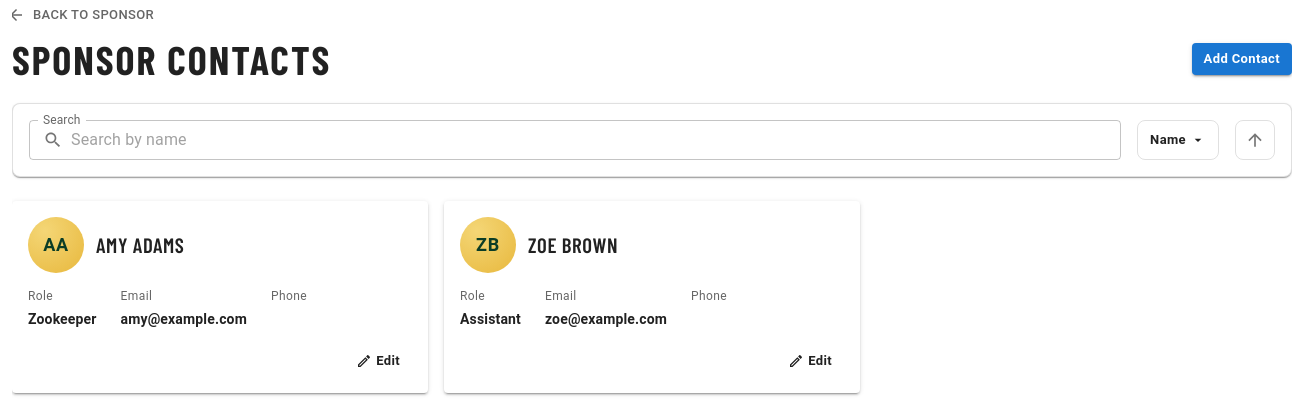
Test case: SponsorContactList › switching the sort field to Role re-sorts by role, and the current direction carries over across the switch
The width and height of the screenshot is (1304, 413).
Check: the link "Amy Adams" is shown, box x1=96 y1=233 x2=184 y2=257
Check: the button with aria-label "Sort field: Name" is shown, box x1=1137 y1=120 x2=1219 y2=160
Note: Flip direction to descending while still sorting by Name.
Click the button named "Name, Z to A".
click(1255, 140)  # box x1=1235 y1=120 x2=1275 y2=160
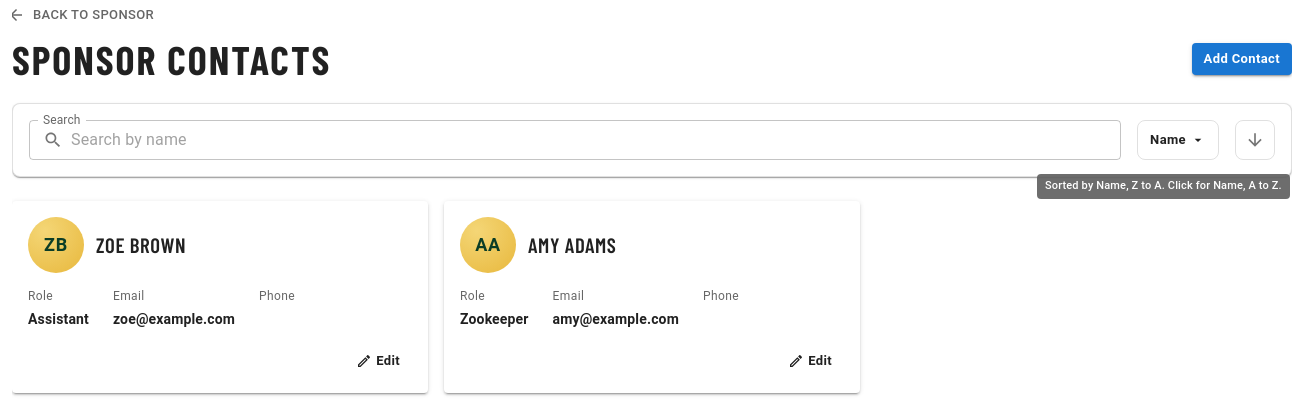
Check: the headings read "Zoe Brown", "Amy Adams", in this order, box x1=96 y1=233 x2=186 y2=257; x1=528 y1=233 x2=616 y2=257
Note: Switch the sort field to Role via the picker.
Click the button with aria-label "Sort field: Name".
click(1178, 140)  # box x1=1137 y1=120 x2=1219 y2=160
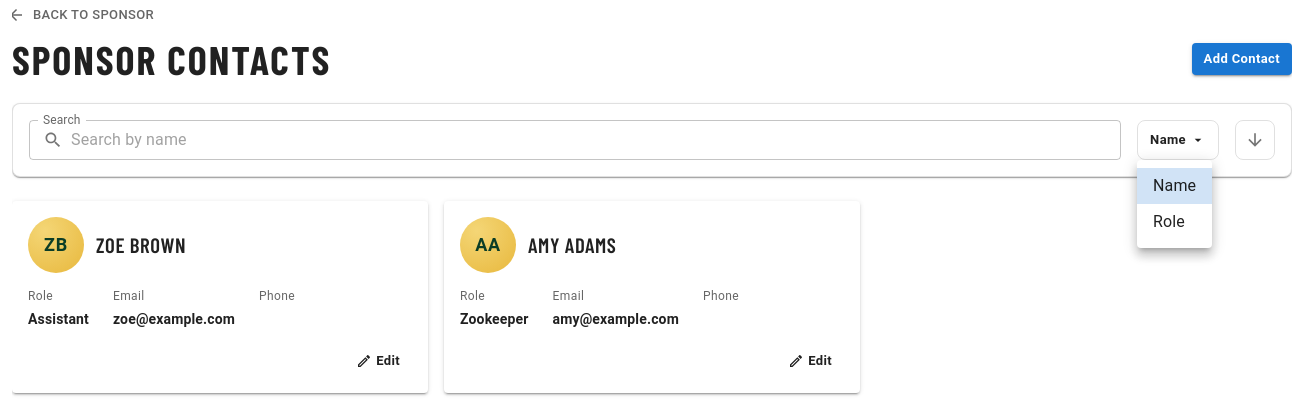
Click the menu item "Role".
click(1169, 222)  # box x1=1153 y1=212 x2=1185 y2=231
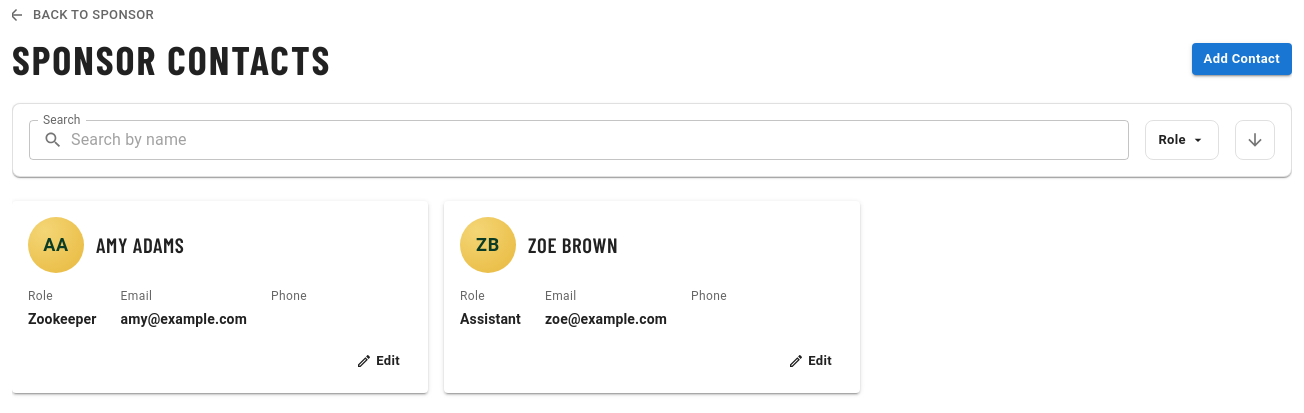
Check: the button named "Role, A to Z" is shown, box x1=1235 y1=120 x2=1275 y2=160
Check: the button with aria-label "Sort field: Role" is shown, box x1=1145 y1=120 x2=1219 y2=160
Check: the headings read "Amy Adams", "Zoe Brown", in this order, box x1=96 y1=233 x2=184 y2=257; x1=528 y1=233 x2=618 y2=257
